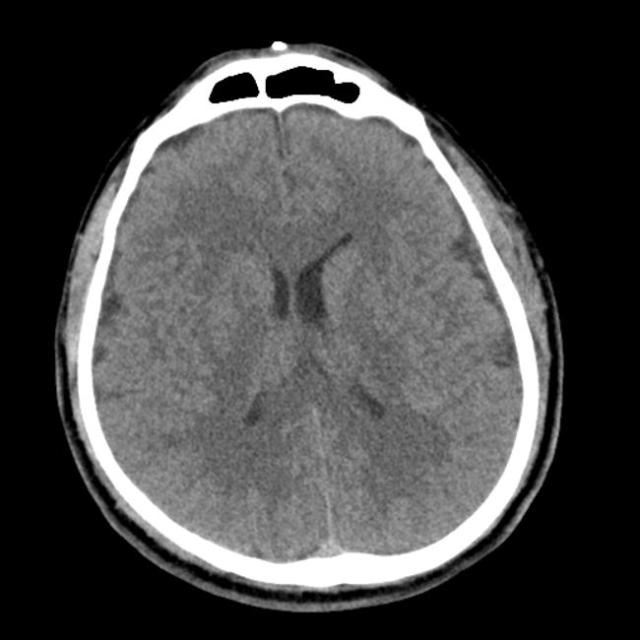lesion: (51, 38, 567, 610)
